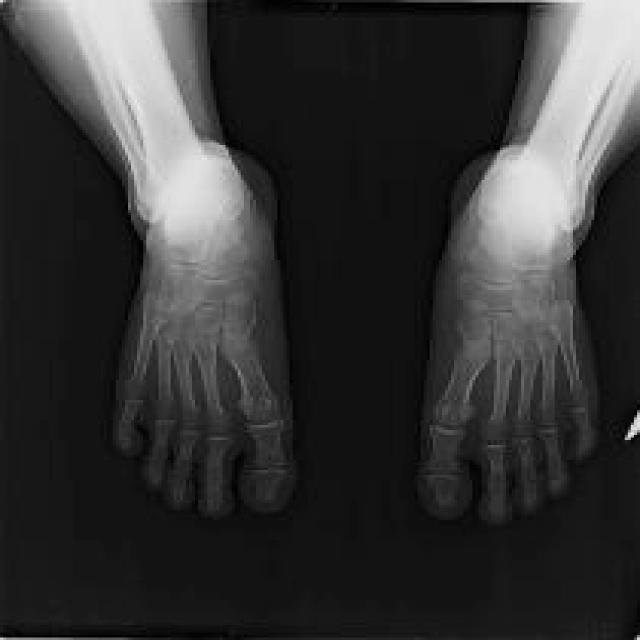normal: (60, 2, 291, 513), (425, 2, 640, 522)
